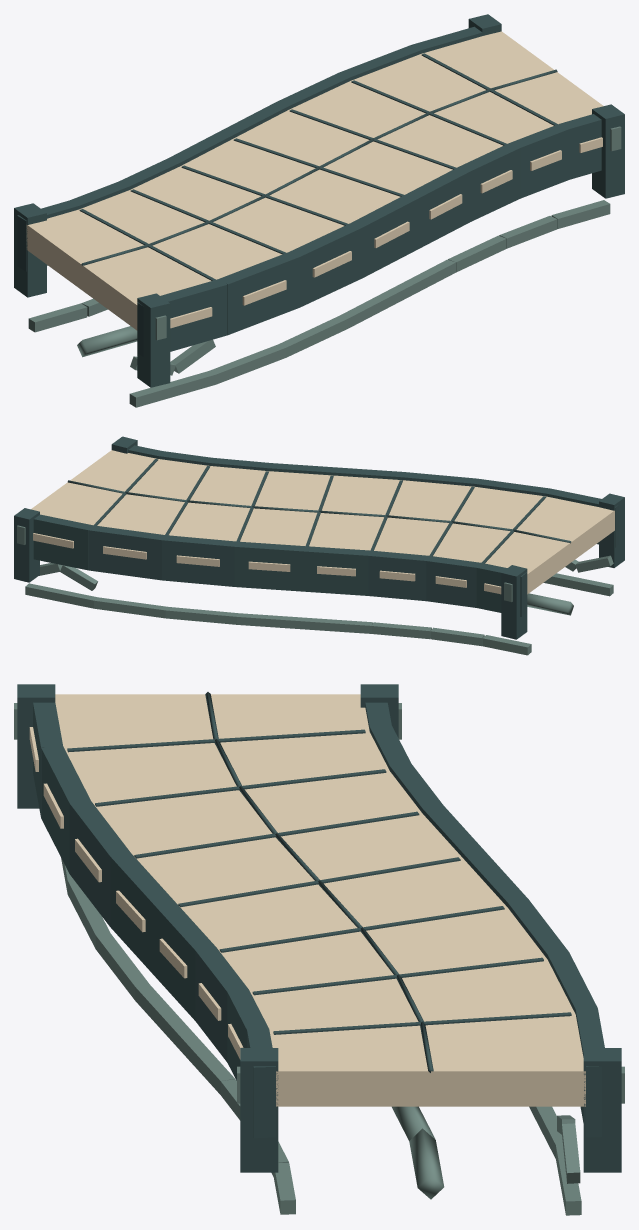
The model's file is Sbend_L2_lab2.glb.
The picture shows the model from 3 angles, top to bottom: view 1: azimuth 30°, elevation 25°; view 2: azimuth 150°, elevation 25°; view 3: azimuth 270°, elevation 25°; orthographic projection. The views are drawn at different scales.
Visible parts, largest first — view 1: Sbend_L2; view 2: Sbend_L2; view 3: Sbend_L2.
Part boxes in pixels (left/top/right/bottom): Sbend_L2: left=14, top=14, right=624, bottom=407; Sbend_L2: left=14, top=436, right=624, bottom=655; Sbend_L2: left=14, top=684, right=624, bottom=1215.
Bounding box in the file's own units: 8.05 × 1.52 × 5.48.
